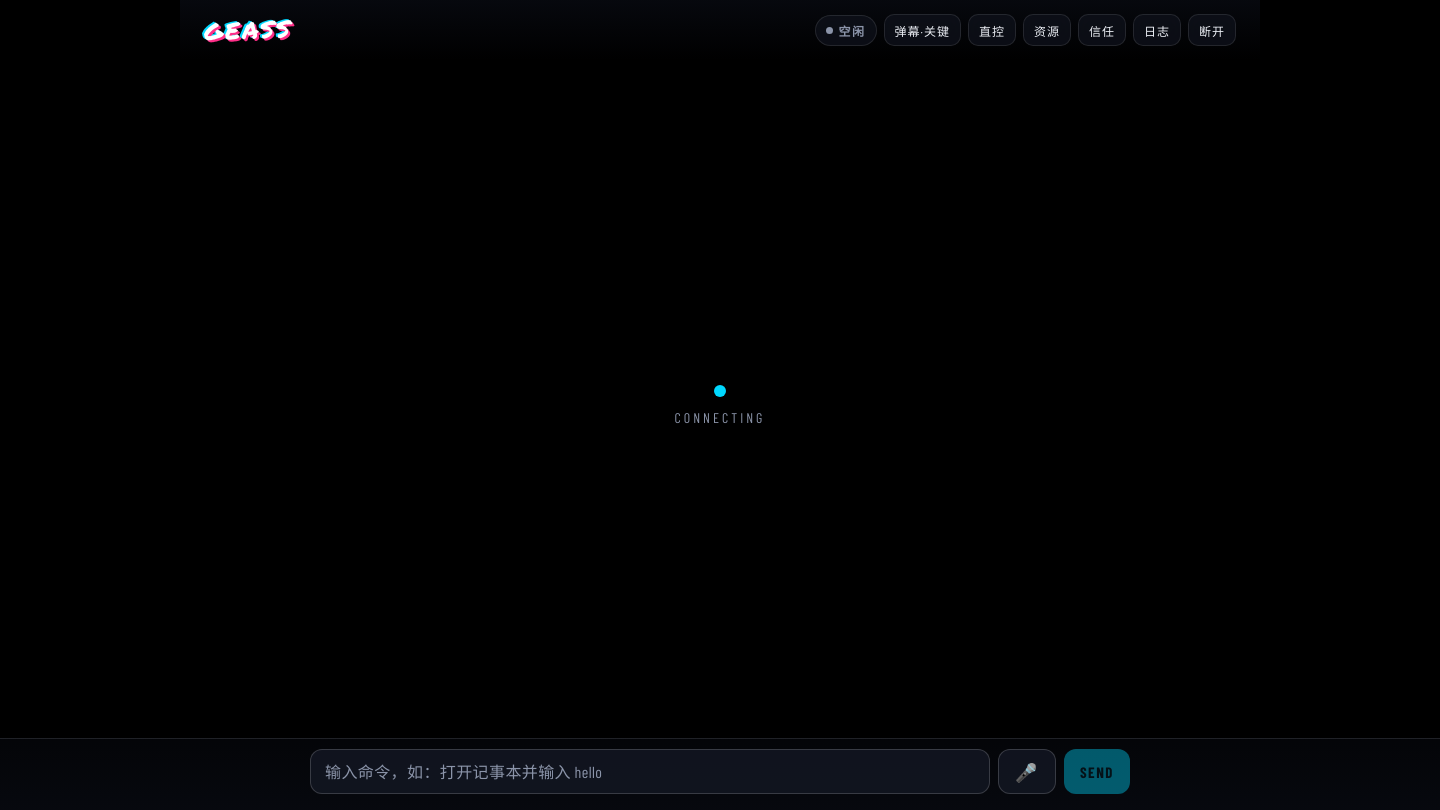
Test: App pairing › loads trust settings and opens the trust panel
Expected: the button "资源" is shown, [1023, 14, 1071, 46]
Click the button "信任" at (1102, 30), box [1078, 14, 1126, 46]
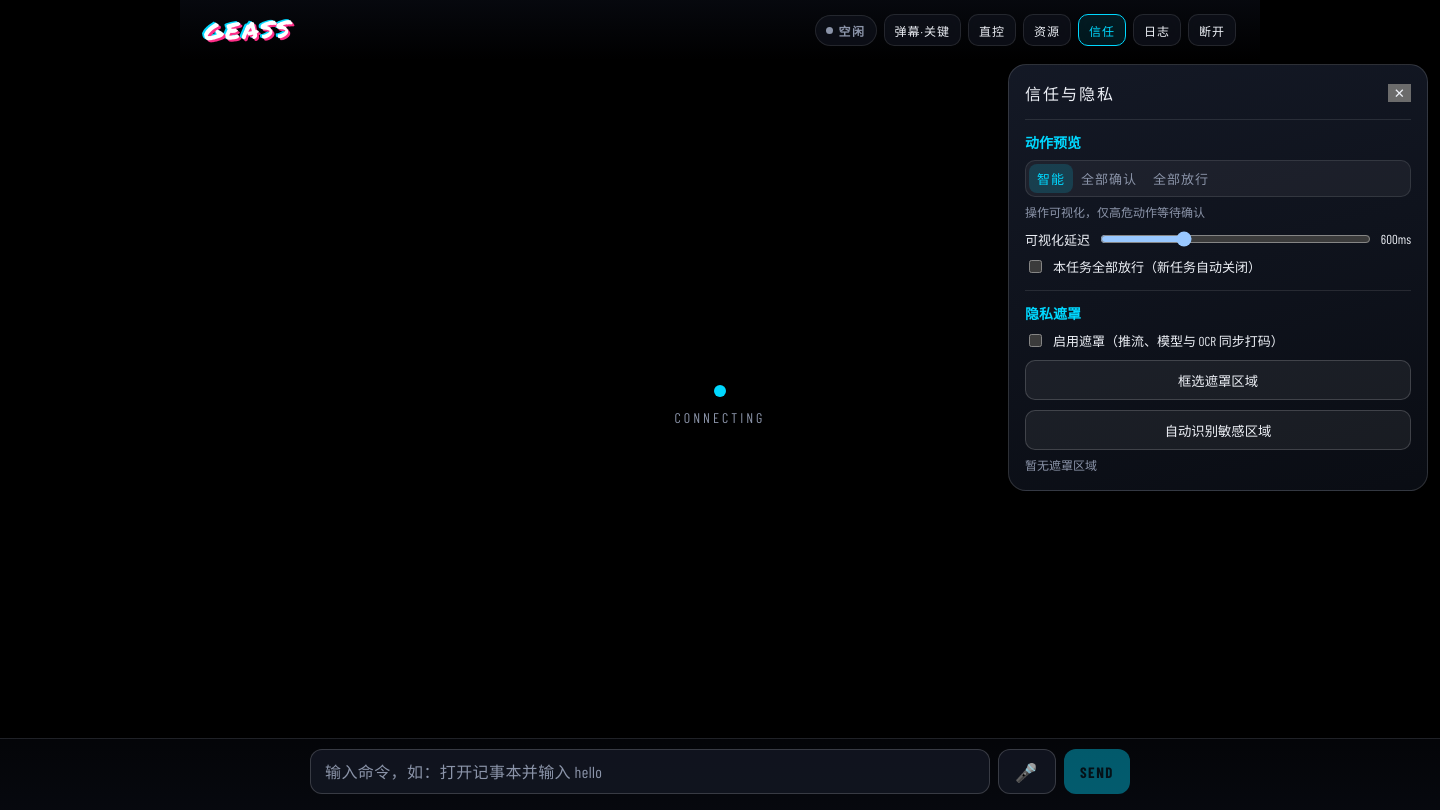
Result: the text "信任与隐私" is shown at [1025, 81, 1115, 105]
Result: the heading "动作预览" is shown at [1025, 134, 1081, 151]
Result: the heading "隐私遮罩" is shown at [1025, 305, 1081, 322]
